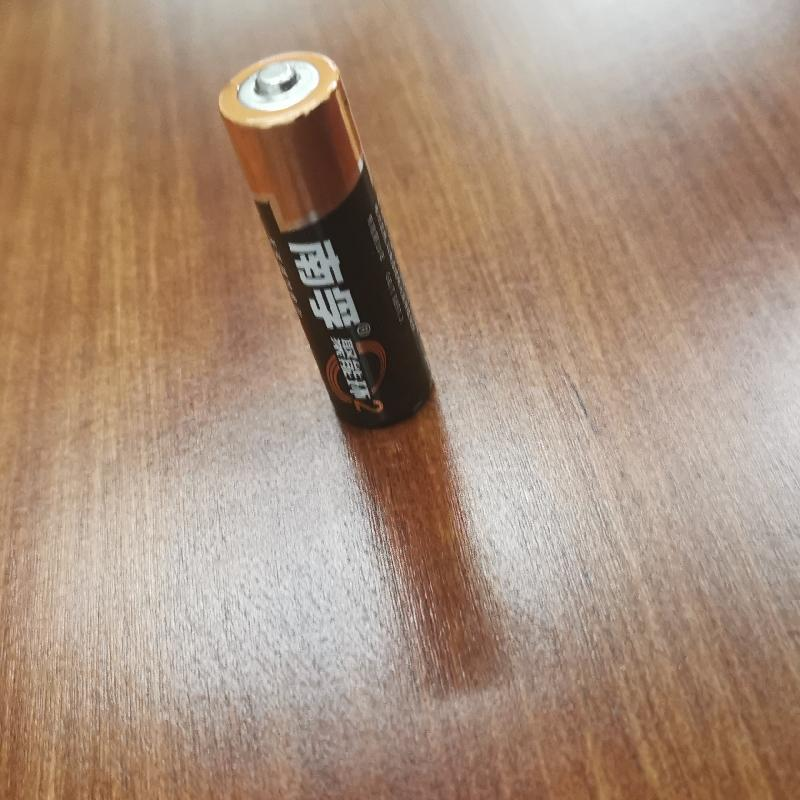battery: (208, 45, 439, 434)
